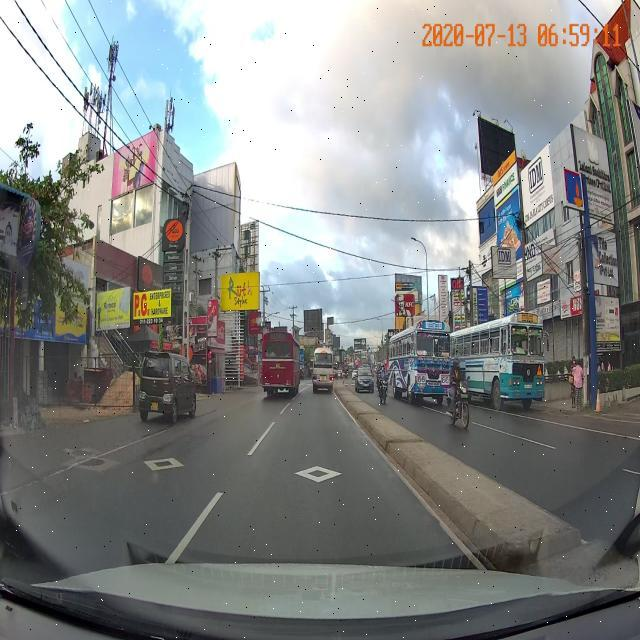diamond: (200, 428, 426, 497)
